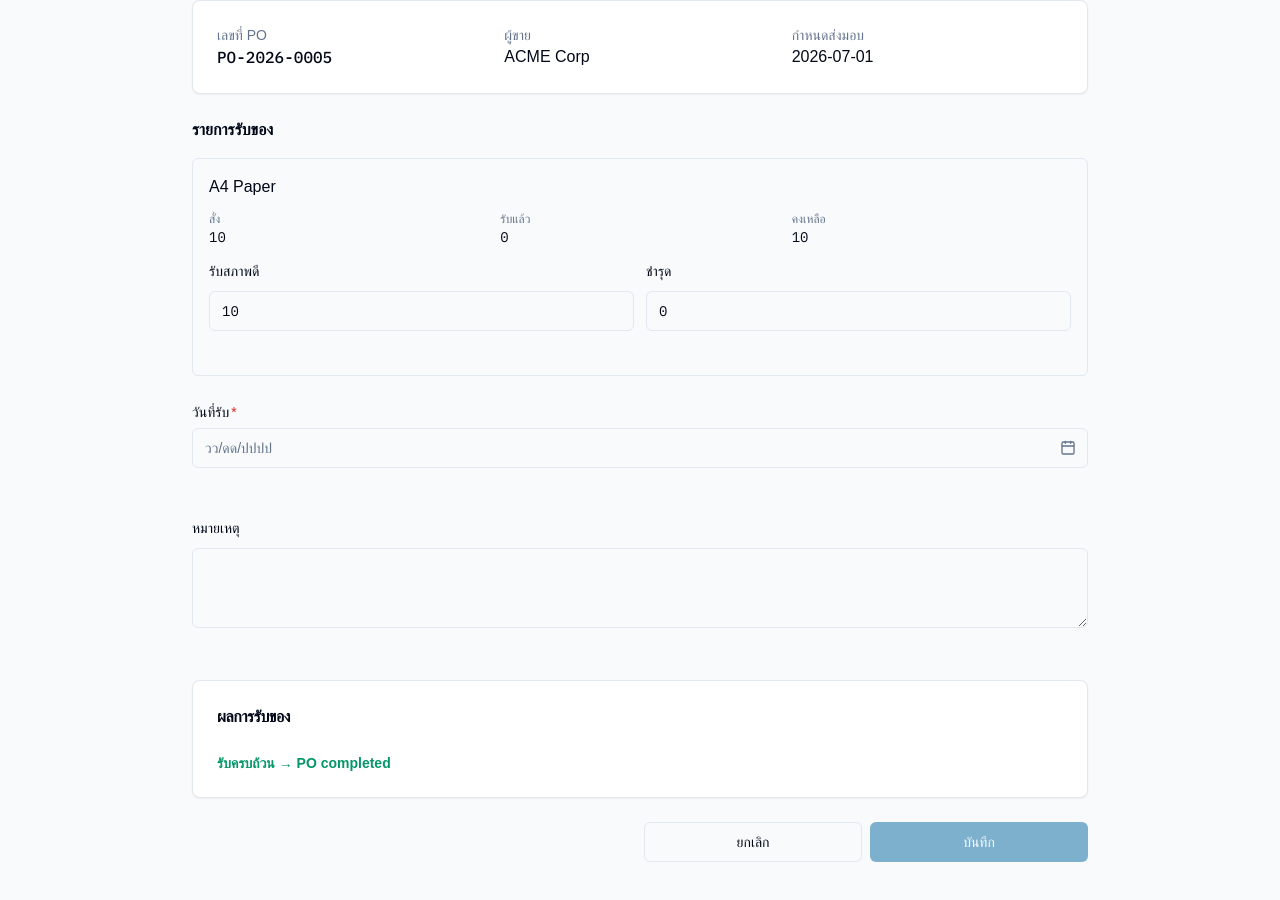
Test case: GRNForm › the save button is disabled until the form is dirty and valid, then enables once a date is set
This screenshot has width=1280, height=900.
Expected: the button "บันทึก" is disabled, 870,822 -> 1088,862
Type "01/06/2569" into the field with placeholder "วว/ดด/ปปปป".
click(640, 448); type("01/06/2569")  # box 192,428 -> 1088,468
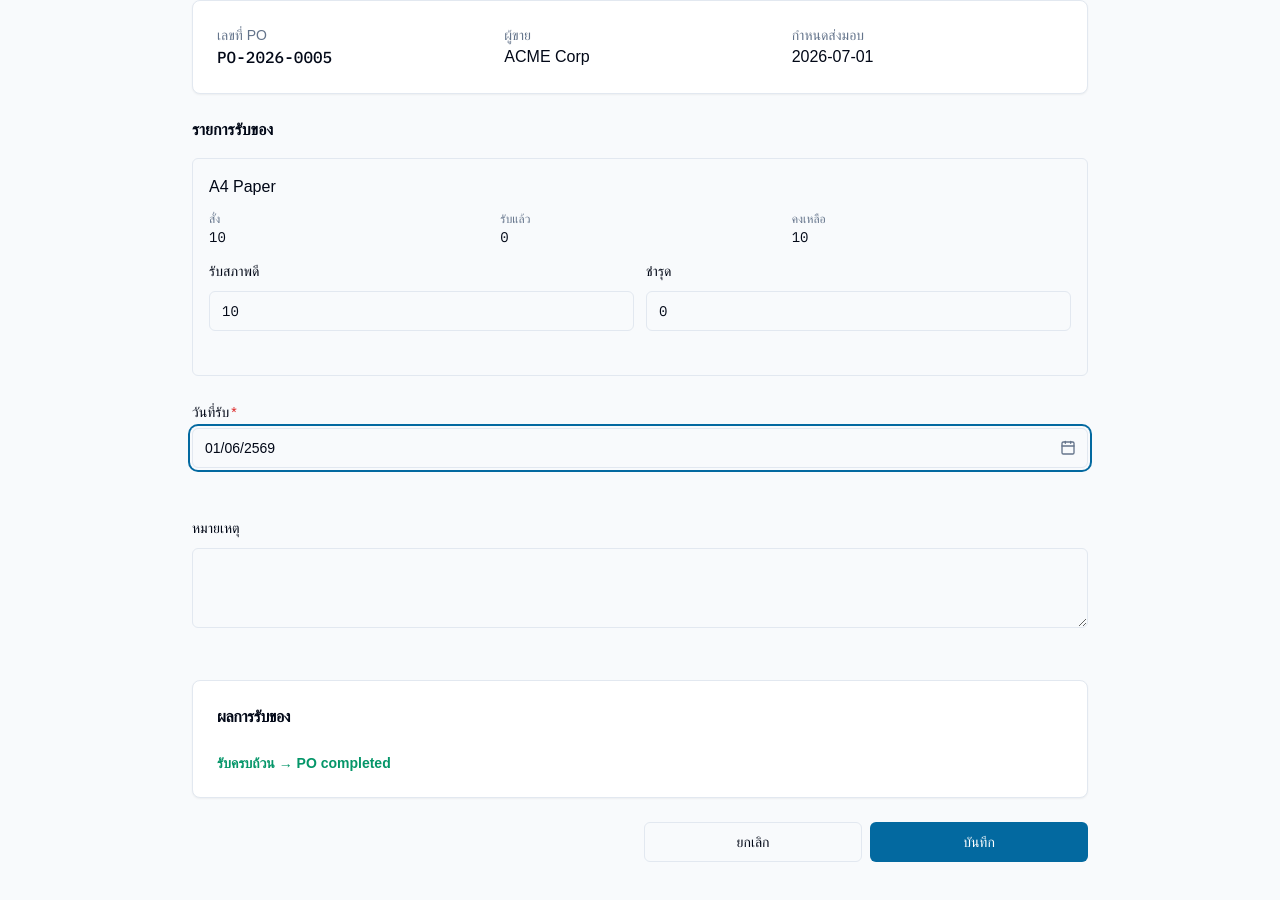
Expected: the button "บันทึก" is enabled, 870,822 -> 1088,862
